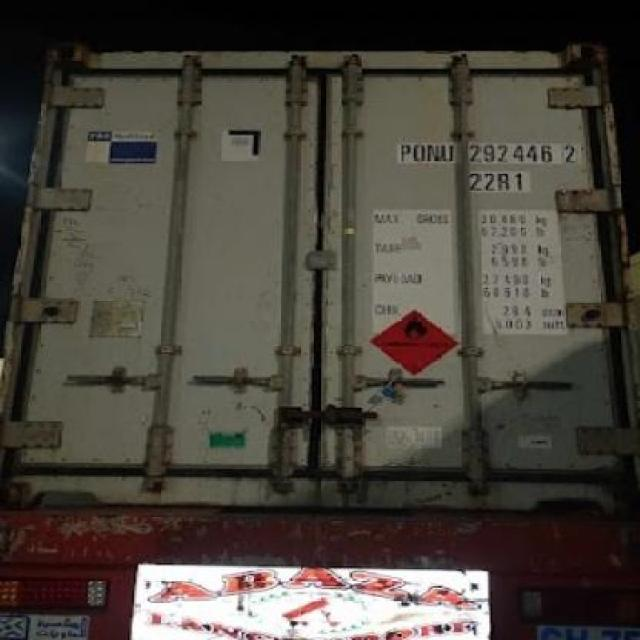ISO: (468, 172, 528, 194)
container_number: (405, 142, 575, 168)
